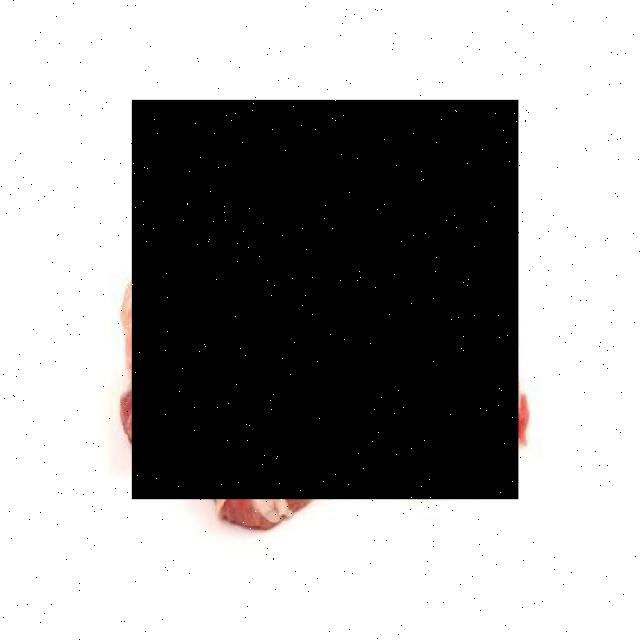Pork: (133, 101, 520, 500)
